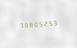eight: (27, 20, 31, 28), (22, 21, 26, 28)
five: (47, 19, 51, 27), (37, 20, 41, 27)
seven: (17, 21, 21, 29)
three: (52, 19, 56, 26)
two: (42, 19, 46, 27)
zero: (32, 20, 36, 28)
